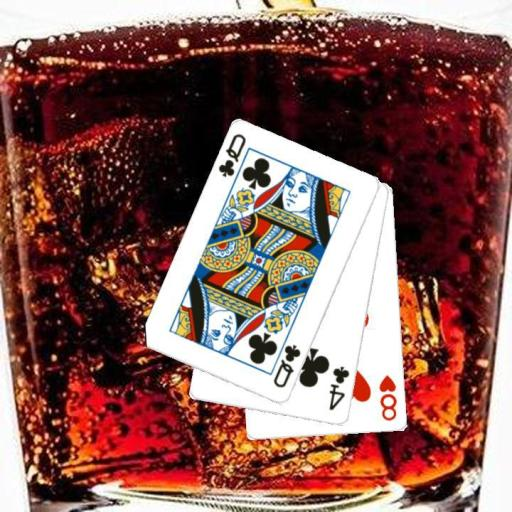4C: (327, 364, 352, 413)
8H: (376, 372, 399, 422)
QC: (270, 341, 302, 390), (216, 131, 248, 179)
